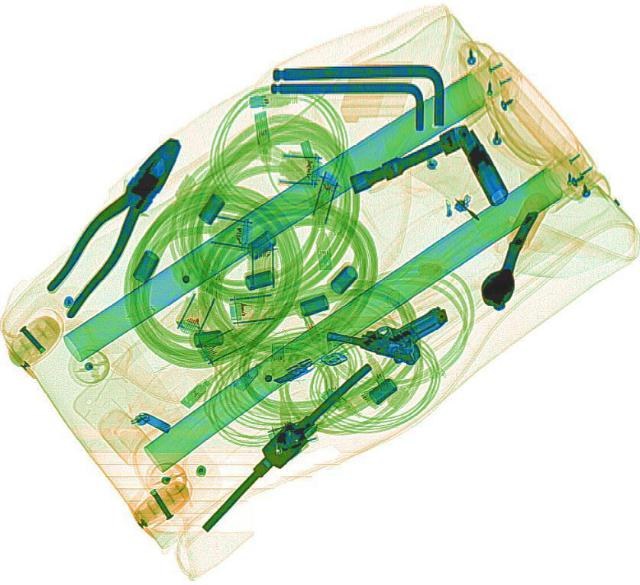Gun: (322, 285, 448, 368)
Pliers: (32, 128, 196, 319)
